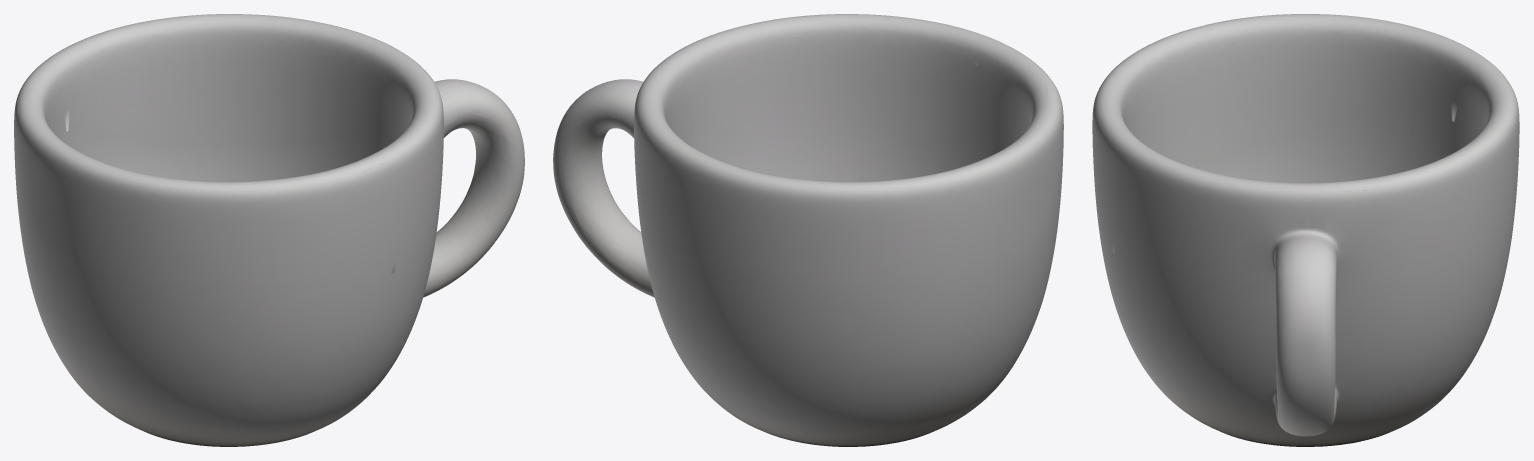
Rendered from 马克杯 .glb.
The picture shows the model from 3 angles, left to right: view 1: azimuth 30°, elevation 25°; view 2: azimuth 150°, elevation 25°; view 3: azimuth 270°, elevation 25°; orthographic projection.
Parts seen in each view (by area): view 1: node_0; view 2: node_0; view 3: node_0.
Part boxes in pixels (x1,y1,x2,y2): node_0: (14, 14, 524, 446); node_0: (553, 14, 1063, 446); node_0: (1092, 14, 1519, 446).
Size of the model in its own units: 1.05 by 0.628 by 0.8176.
1 material, 1 textured.
